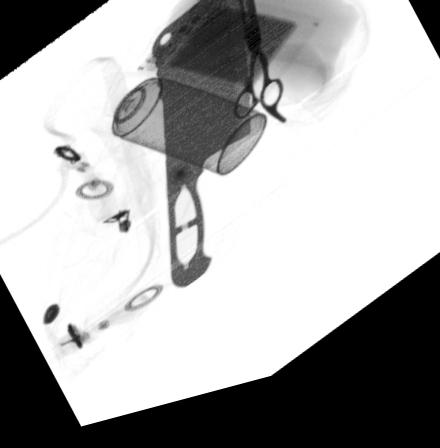Knife: (148, 0, 255, 297)
Powerbank: (143, 1, 319, 114)
Scissors: (232, 0, 289, 141)
Sprayer: (89, 73, 267, 190)
